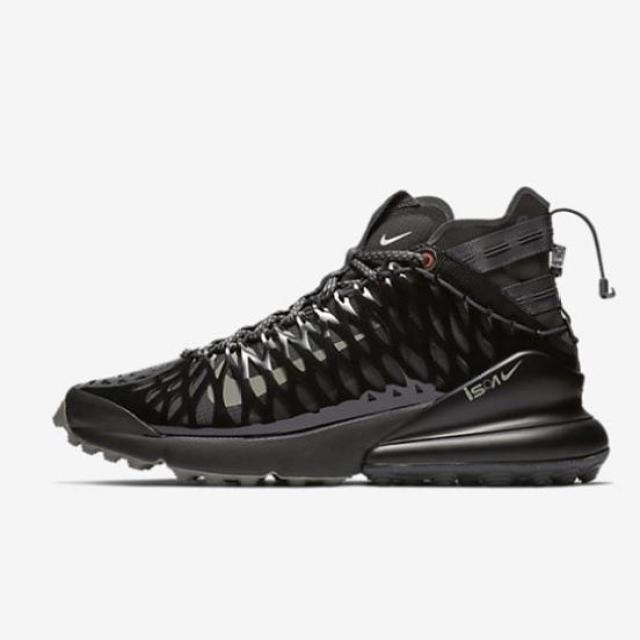shoe: (32, 184, 618, 499)
